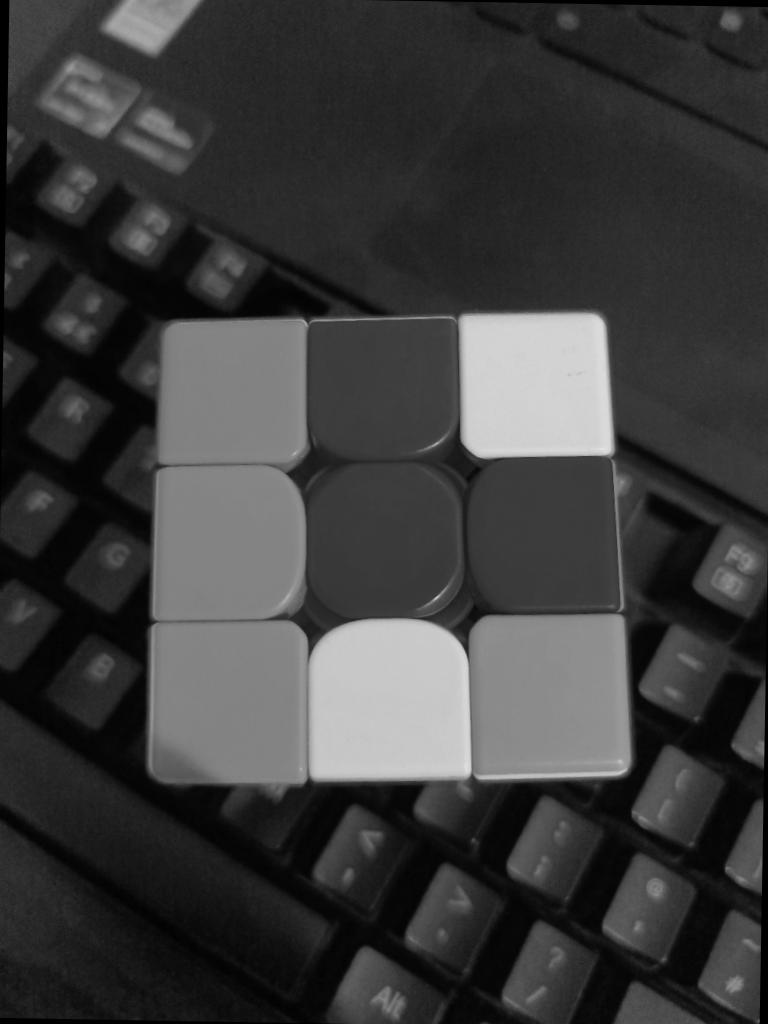rubik: (142, 304, 642, 792)
